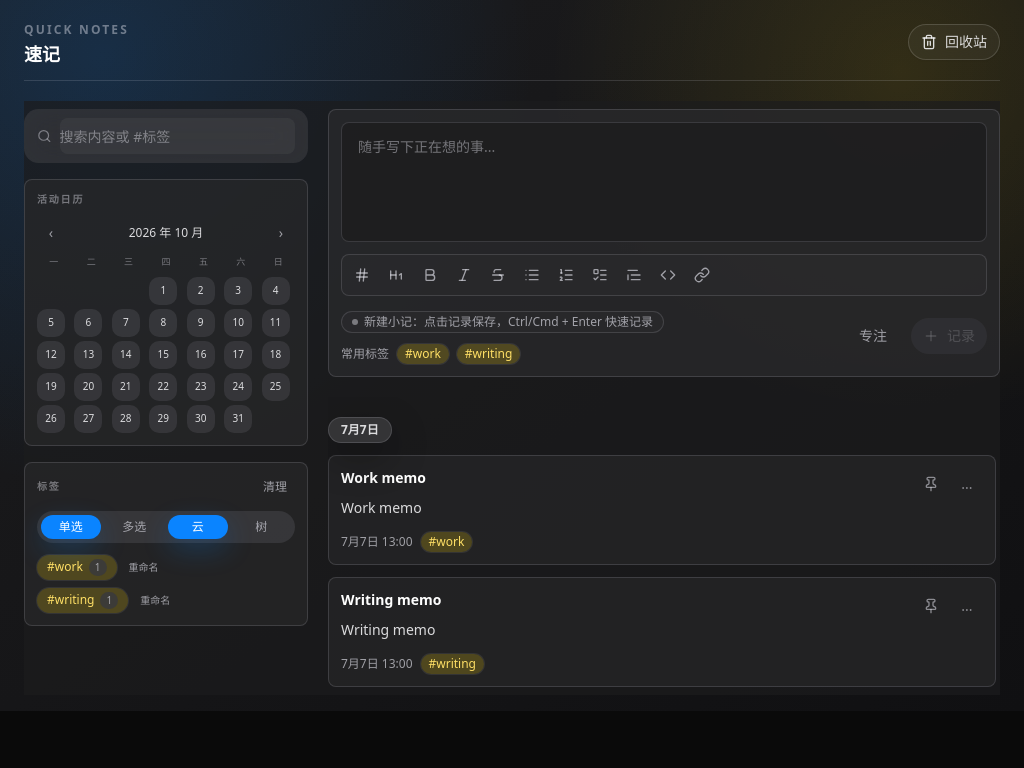
Test: QuickNotesView › inserts the selected hash tag autocomplete option with arrow keys and enter
Type "#w" into the text box named "小记内容" at (664, 182), box 341,122 -> 987,242
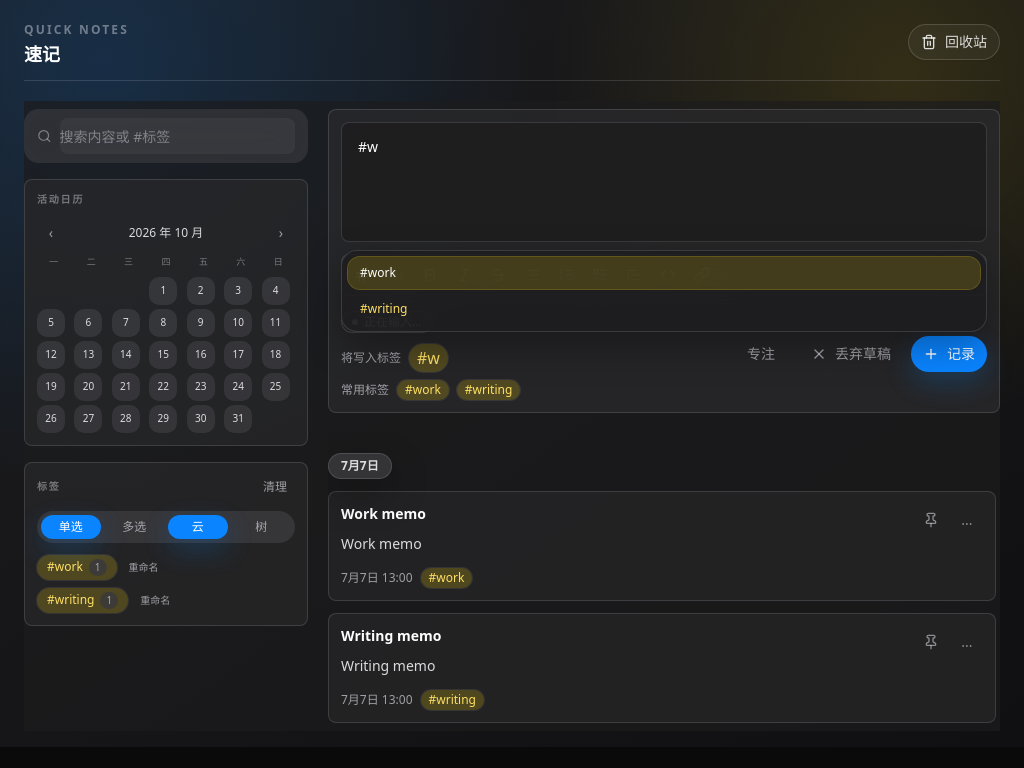
Press ArrowDown in the text box named "小记内容", box 341,122 -> 987,242
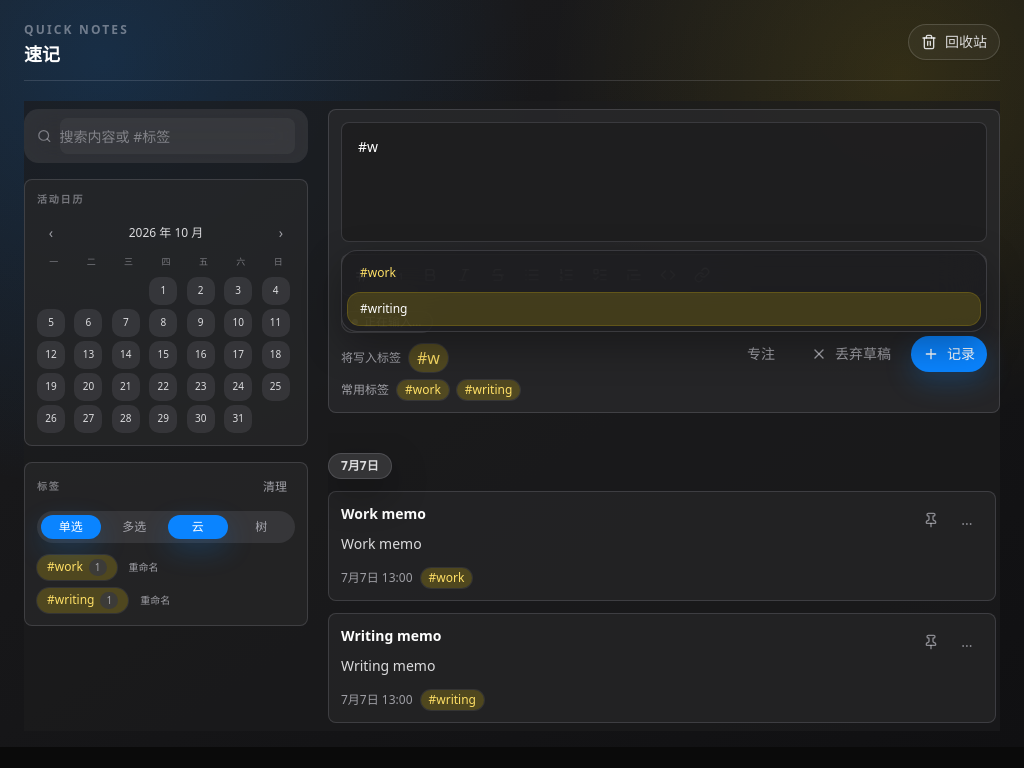
Now the option "#writing" is selected, box 348,293 -> 980,325
Press Enter in the text box named "小记内容", box 341,122 -> 987,242
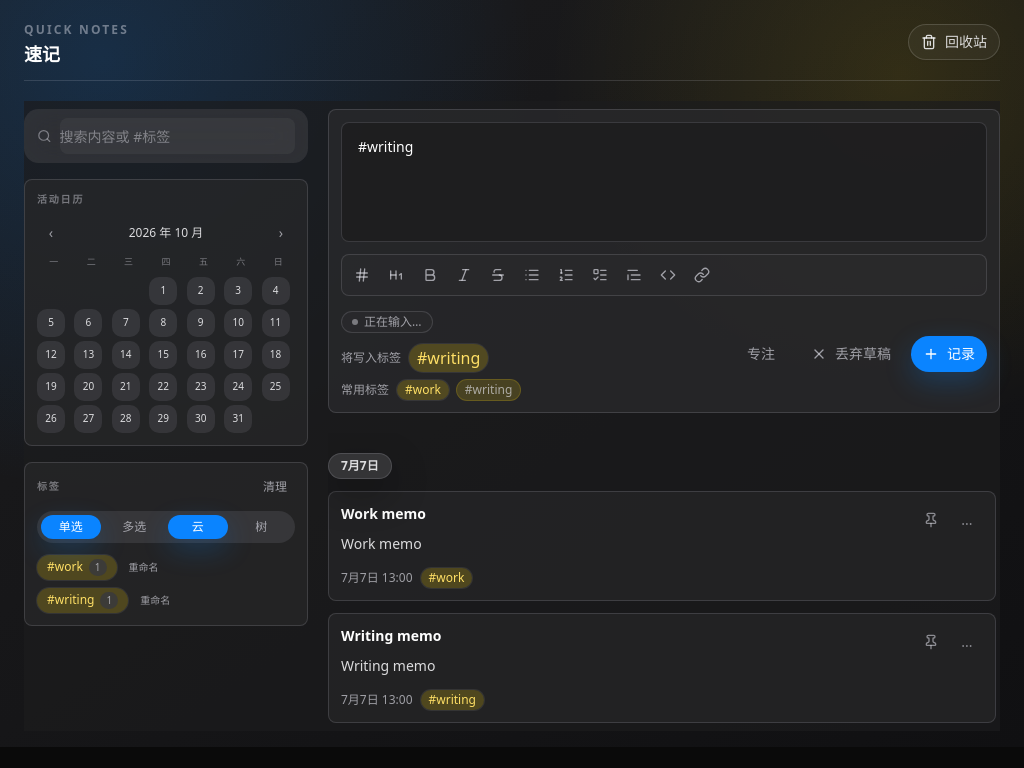
Now the text box named "小记内容" holds "#writing ", box 341,122 -> 987,242
Now the list "标签补全" is gone
